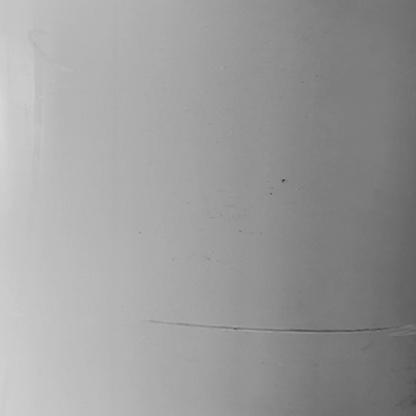sunshang: (141, 318, 416, 346)
